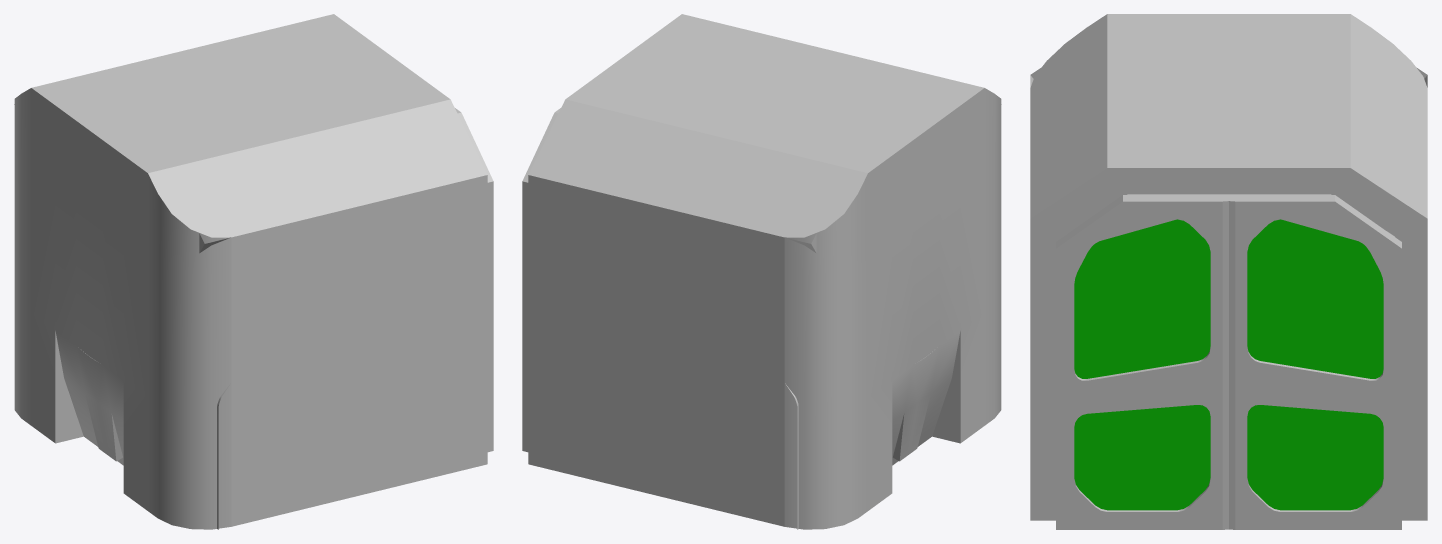
File: EscPod_02a.fbx
3 renders of one model, left to right at view 1: azimuth 30°, elevation 25°; view 2: azimuth 150°, elevation 25°; view 3: azimuth 270°, elevation 25°, orthographic. The views are drawn at different scales.
Parts seen in each view (by area): view 1: EscPod_02a, EscPod_Door_01; view 2: EscPod_02a, EscPod_Door_02; view 3: EscPod_02a, EscPod_Door_01, EscPod_Door_02.
Boxes of the visible parts, <box> form: EscPod_02a: <box>14,14,487,529</box>; EscPod_Door_01: <box>455,108,493,452</box>; EscPod_02a: <box>528,14,1001,529</box>; EscPod_Door_02: <box>522,108,560,452</box>; EscPod_02a: <box>1030,14,1427,520</box>; EscPod_Door_01: <box>1056,195,1228,529</box>; EscPod_Door_02: <box>1229,195,1401,529</box>.
Bounding box in the file's own units: 93.49 × 96.05 × 94.05.
